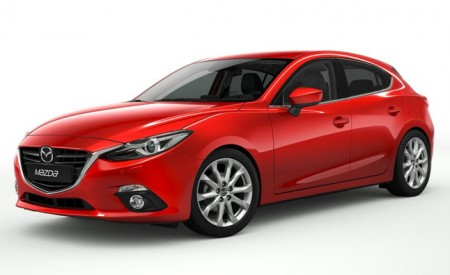sedan: (12, 49, 435, 237)
